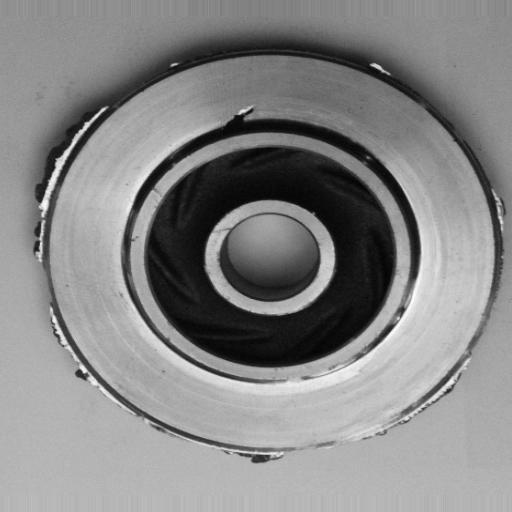casting_with_burr: (30, 42, 507, 465)
crack: (214, 95, 271, 140)
scratch: (272, 351, 366, 397)
